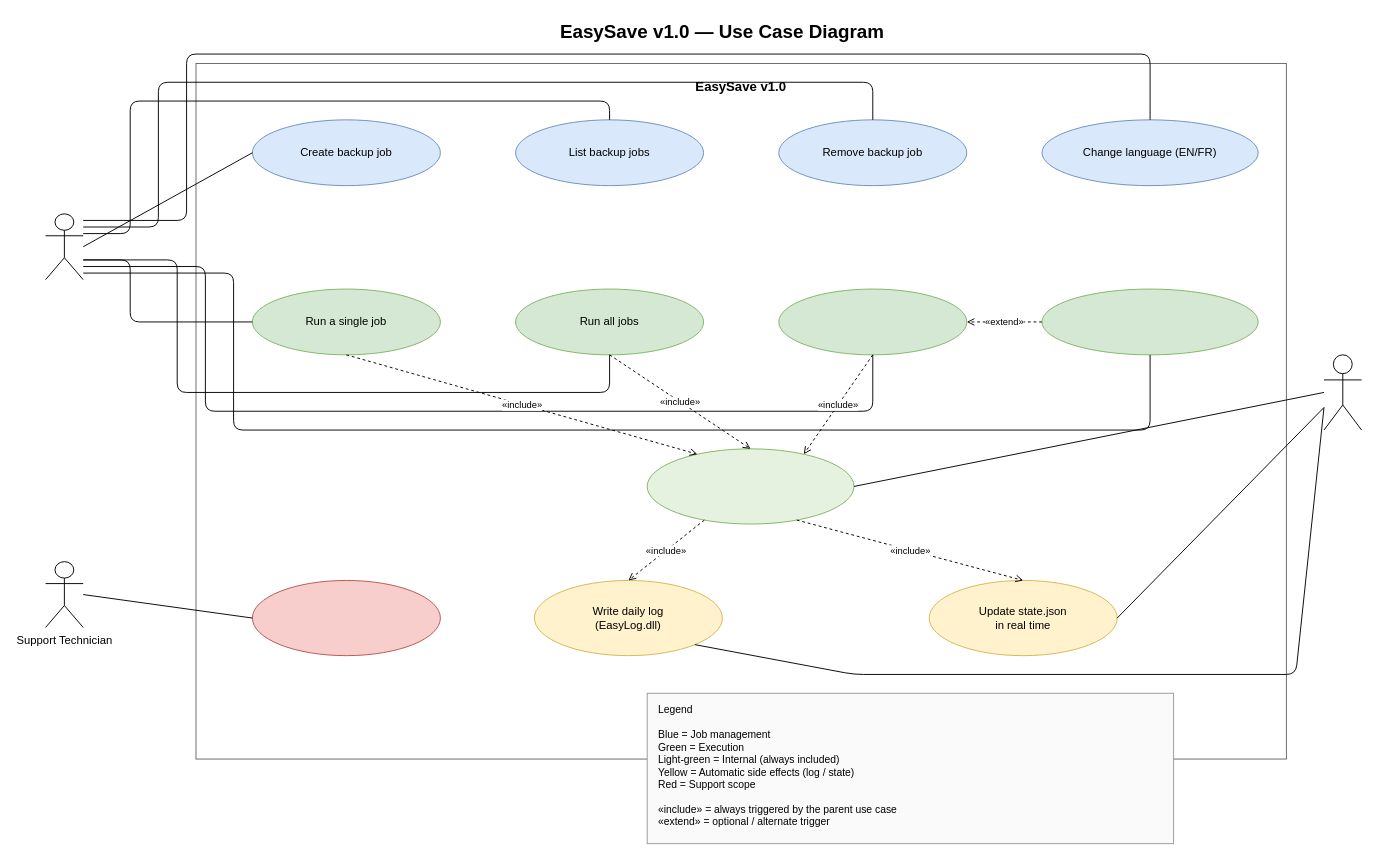
The diagram is 1388 pixels wide and 860 high, and some of its shapes have lost their labels. Here are the shapes that lost their labels. From the top down, the centre of each, then its label:
At [64,246]: "End User".
At [872,321]: "Run selection (1-3 or 1;3)".
At [1149,321]: "Run via command line EasySave.exe «args»".
At [1342,392]: "«system» File System".
At [750,486]: "Copy files (full / differential)".
At [345,618]: "Inspect logs and state file".
